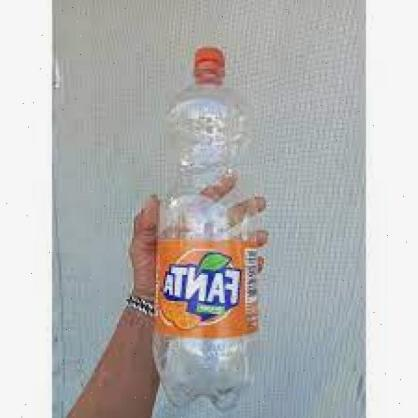bottle: (149, 49, 262, 411)
cap: (192, 47, 228, 73)
label: (156, 240, 258, 338)
